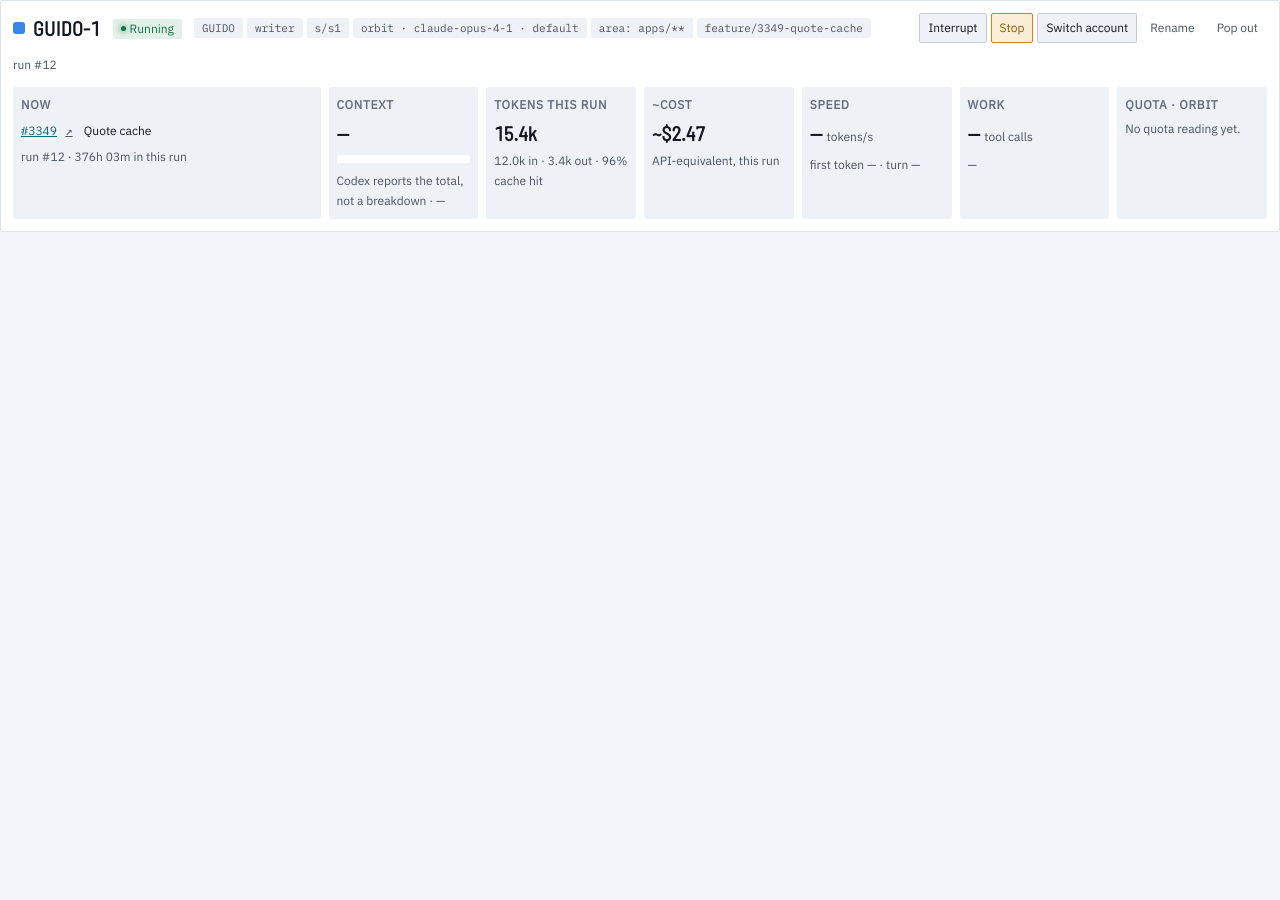
keeps the account unchanged on refusal or failure
The width and height of the screenshot is (1280, 900).
Click the button "Switch account" at {"x": 1087, "y": 28}, box [1037,13,1137,43]
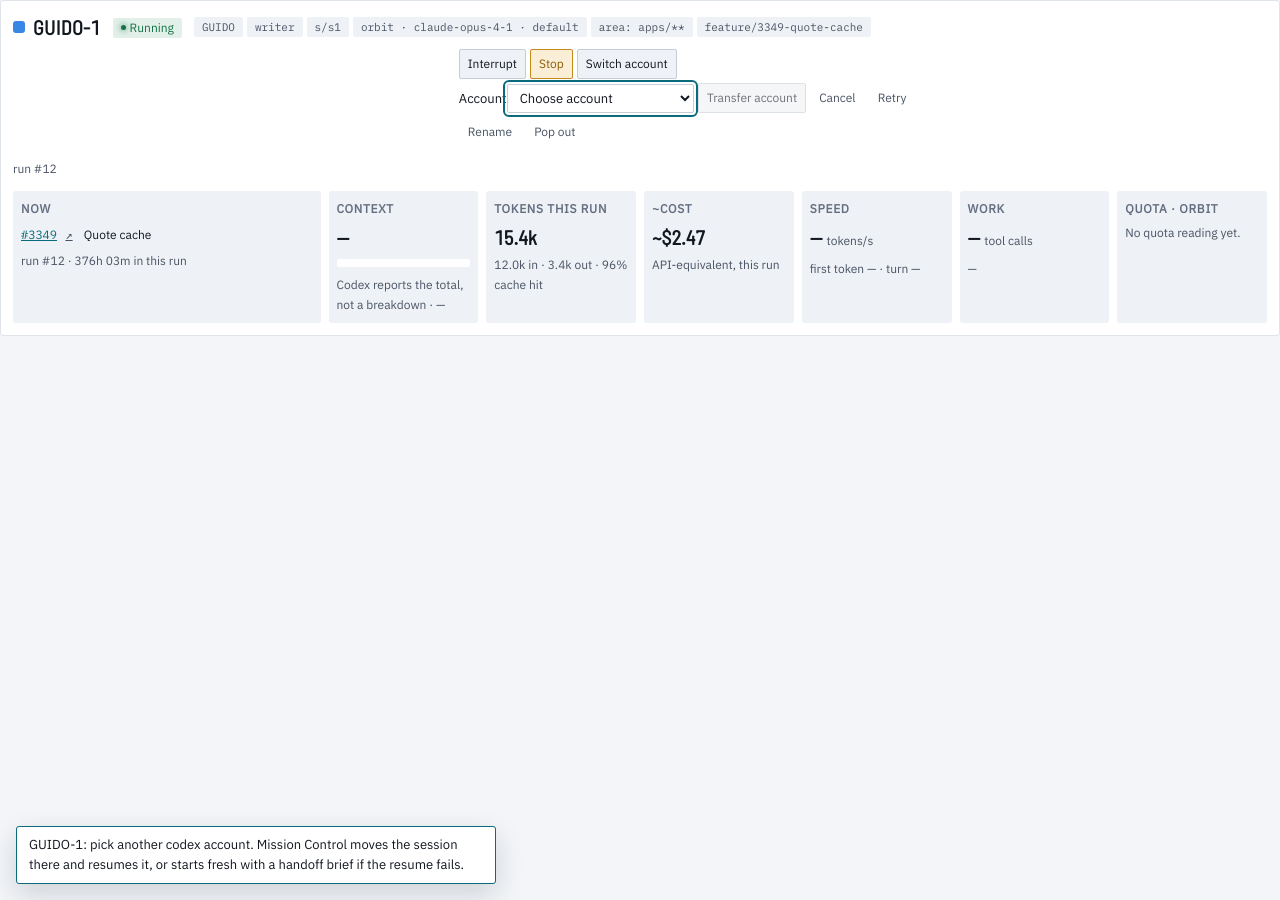
Select "nova · Available" in the dropdown labelled "Account" at {"x": 600, "y": 98}, box [507,84,694,112]
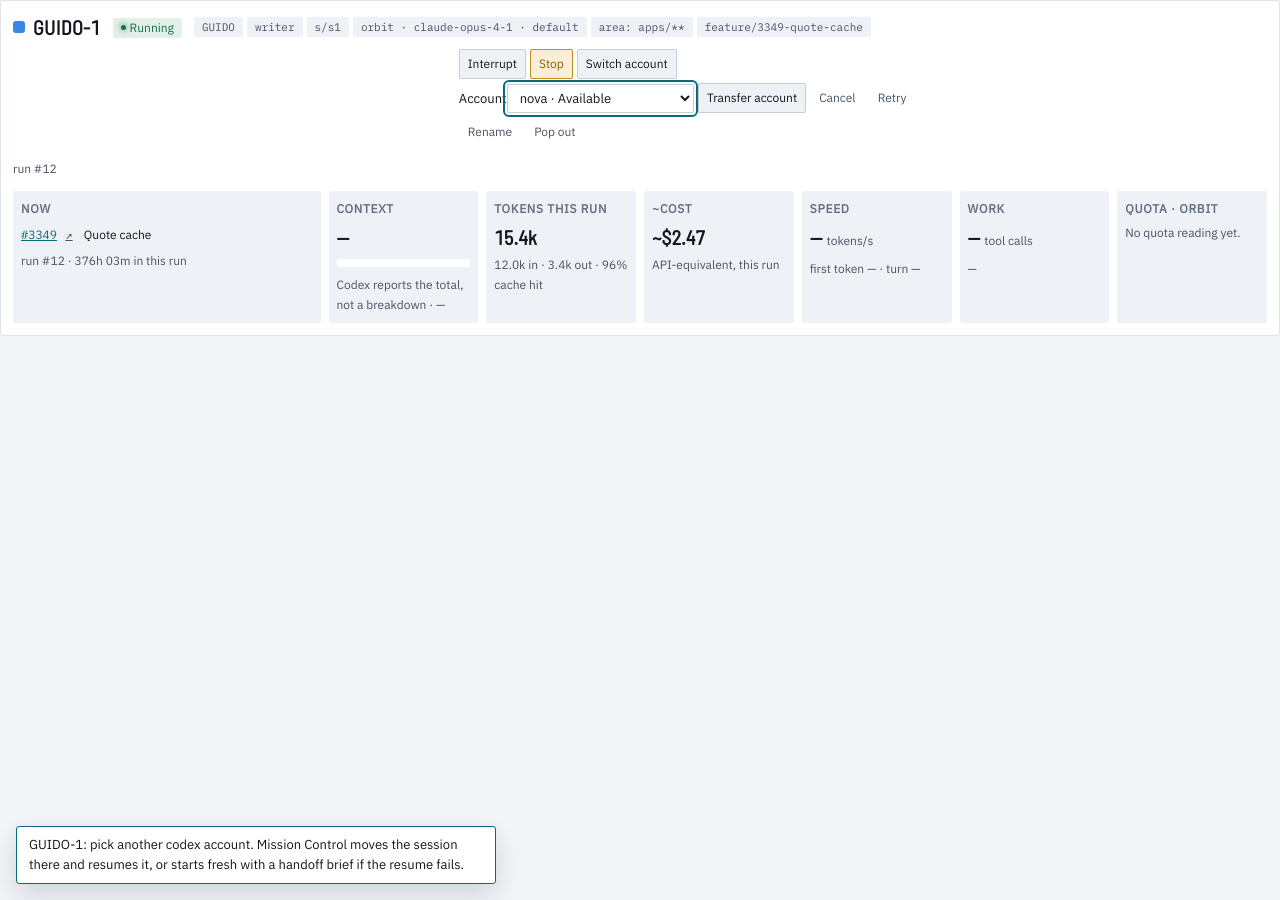
Now the button "Transfer account" is enabled, box [698,83,806,113]
Submit the form named "Switch account", box [459,83,915,113]
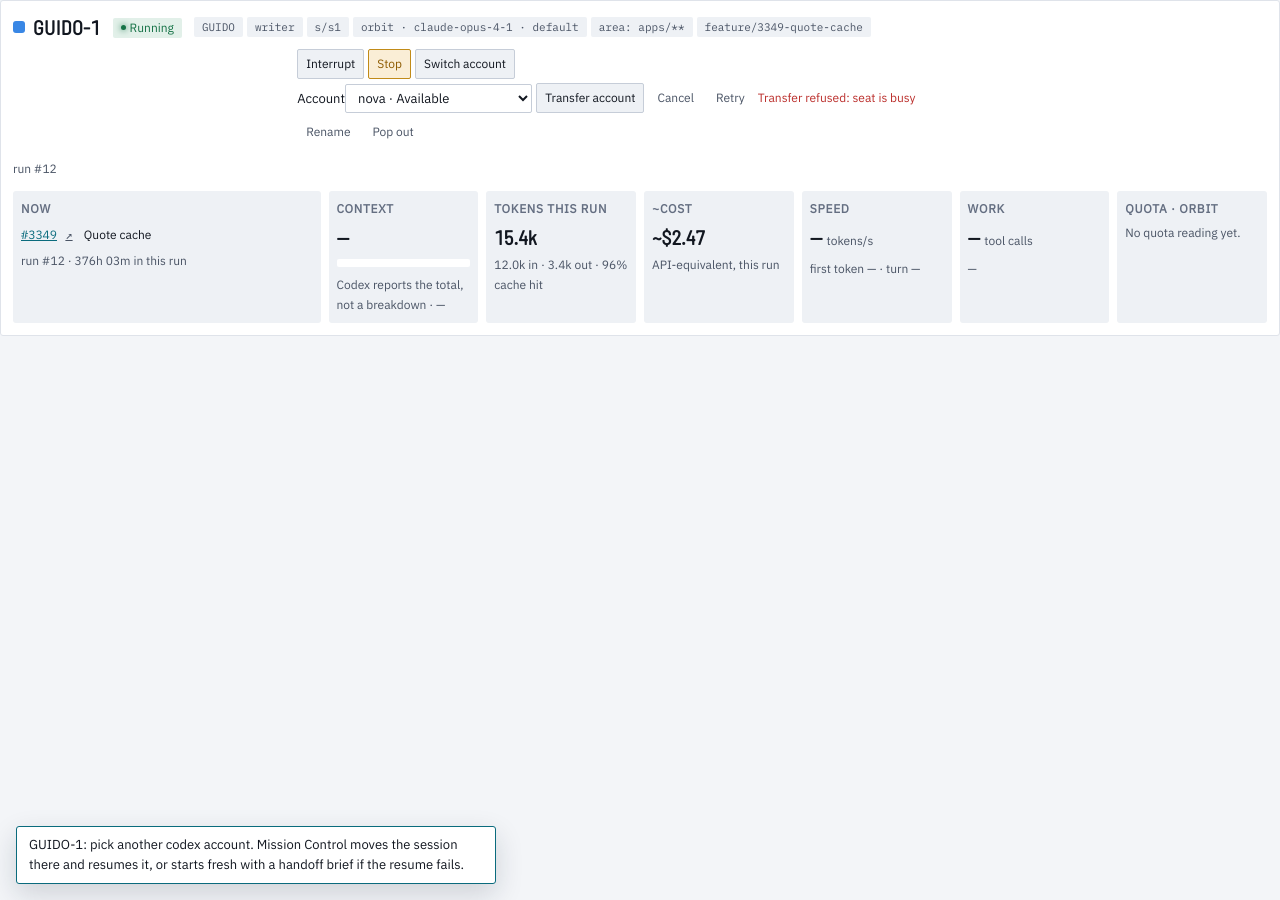
Expected: the text titled "orbit ·" is shown, [353,17,587,37]
Now the message "Transfer refused: seat is busy" is shown, box [758,88,916,108]
